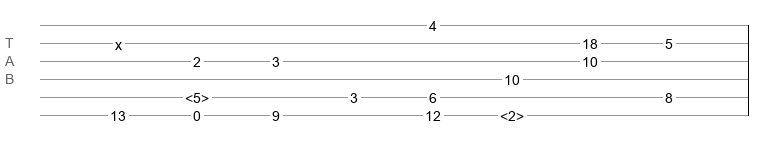0: (193, 108, 201, 118)
10: (504, 72, 520, 82), (582, 54, 598, 64)
12: (425, 108, 441, 118)
13: (110, 108, 126, 118)
18: (582, 36, 598, 46)
2: (193, 54, 201, 64)
3: (272, 54, 280, 64), (350, 90, 358, 100)
4: (429, 18, 437, 28)
5: (665, 36, 673, 46)
6: (429, 90, 437, 100)
8: (665, 90, 673, 100)
9: (272, 108, 280, 118)
harmonic: (185, 90, 209, 100), (500, 108, 524, 118)
x: (115, 37, 122, 45)
